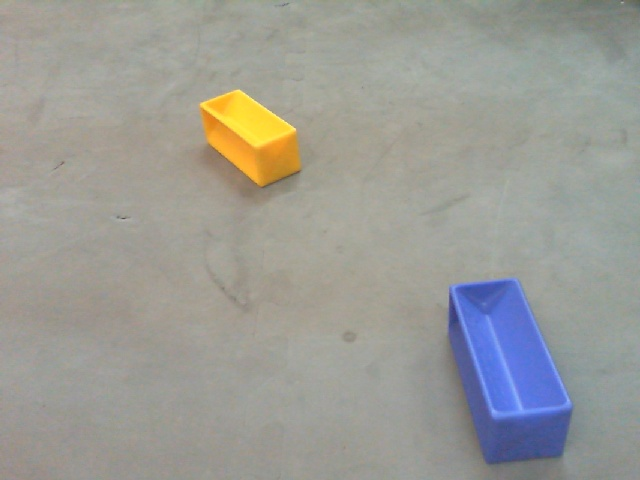BlueSample: (444, 275, 574, 466)
YellowSample: (197, 88, 310, 191)
